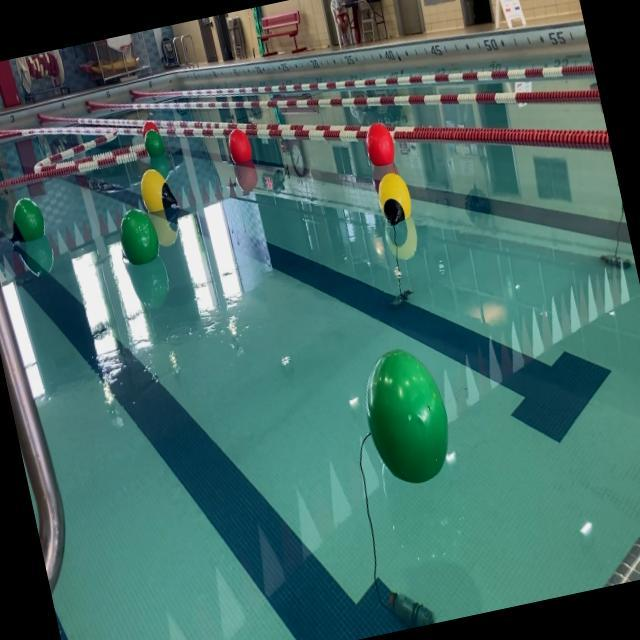buoy: (355, 341, 462, 491), (114, 205, 165, 270), (376, 168, 415, 228), (4, 195, 47, 248), (136, 165, 176, 216), (362, 120, 398, 170), (224, 125, 256, 168), (141, 126, 167, 162), (142, 118, 158, 136)
